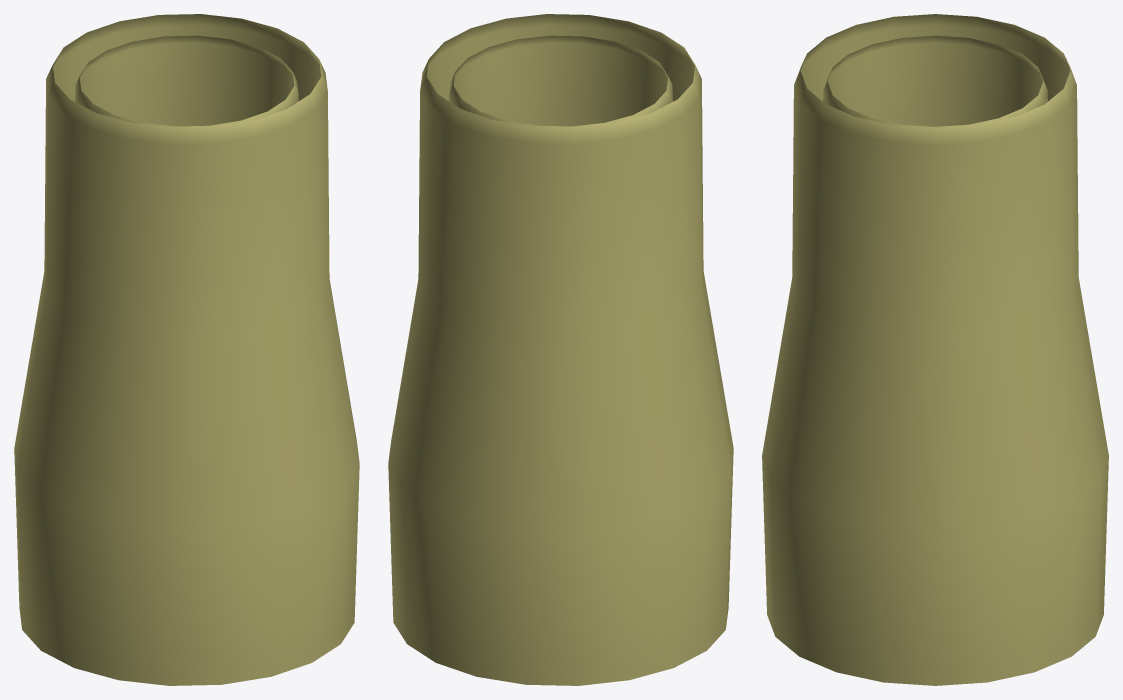
The model's file is Pepper_Shaker_2_2.obj.
3 renders of one model, left to right at view 1: azimuth 30°, elevation 25°; view 2: azimuth 150°, elevation 25°; view 3: azimuth 270°, elevation 25°, orthographic.
Size of the model in its own units: 0.0666 by 0.1151 by 0.0666.
